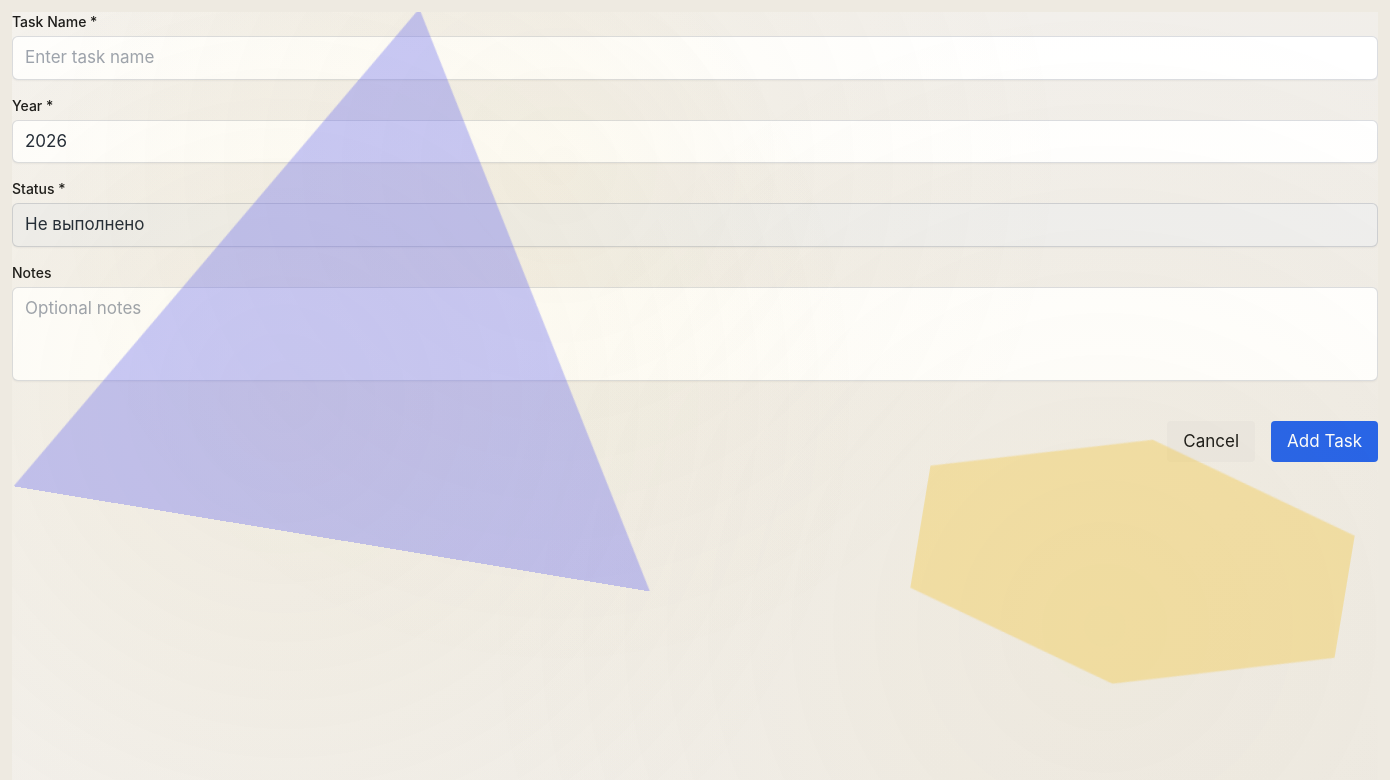
Test case: YearlyTaskModal › should validate year field
The width and height of the screenshot is (1390, 780).
Replace the text in the number field labelled "Year *" with "1800" at (695, 141), box x1=12 y1=120 x2=1378 y2=163
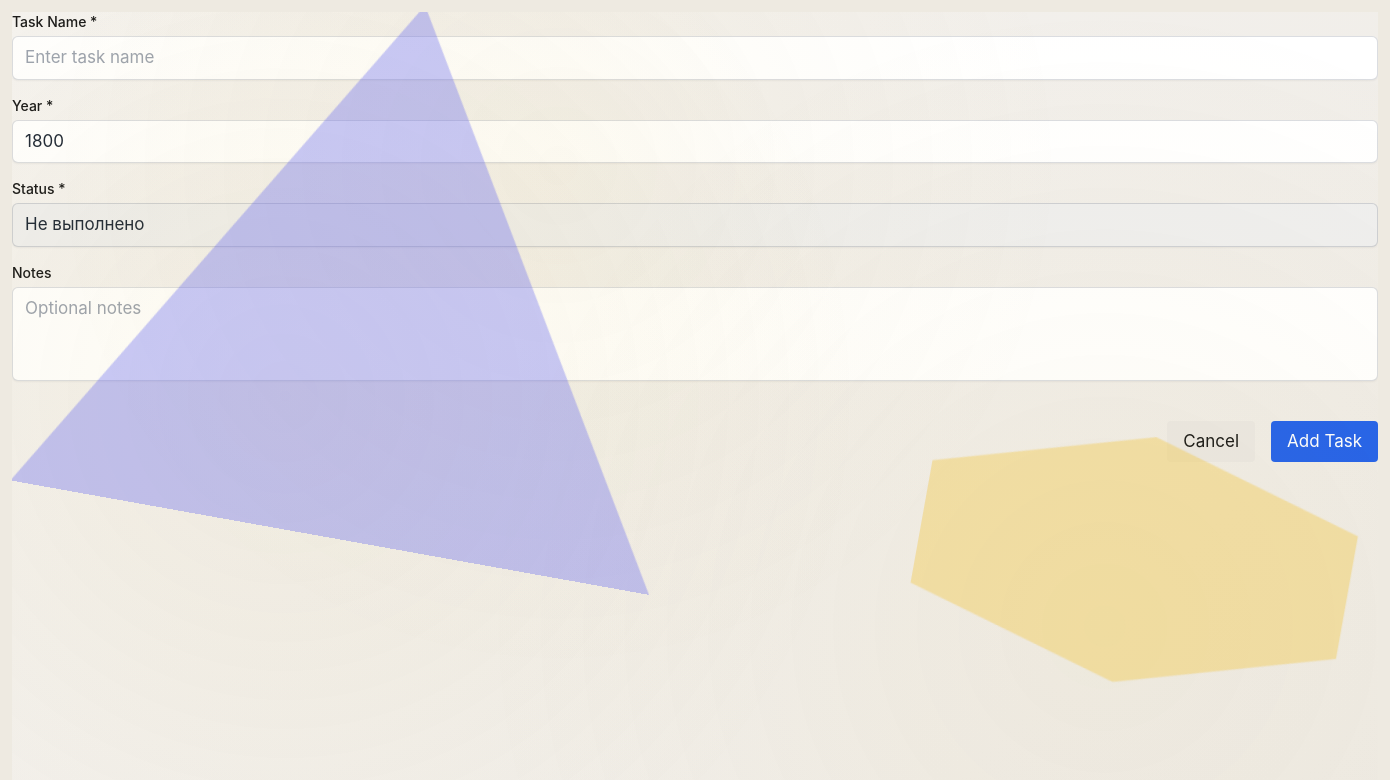
Type "Test Task" into the field labelled "Task Name *" at (695, 58), box x1=12 y1=36 x2=1378 y2=80
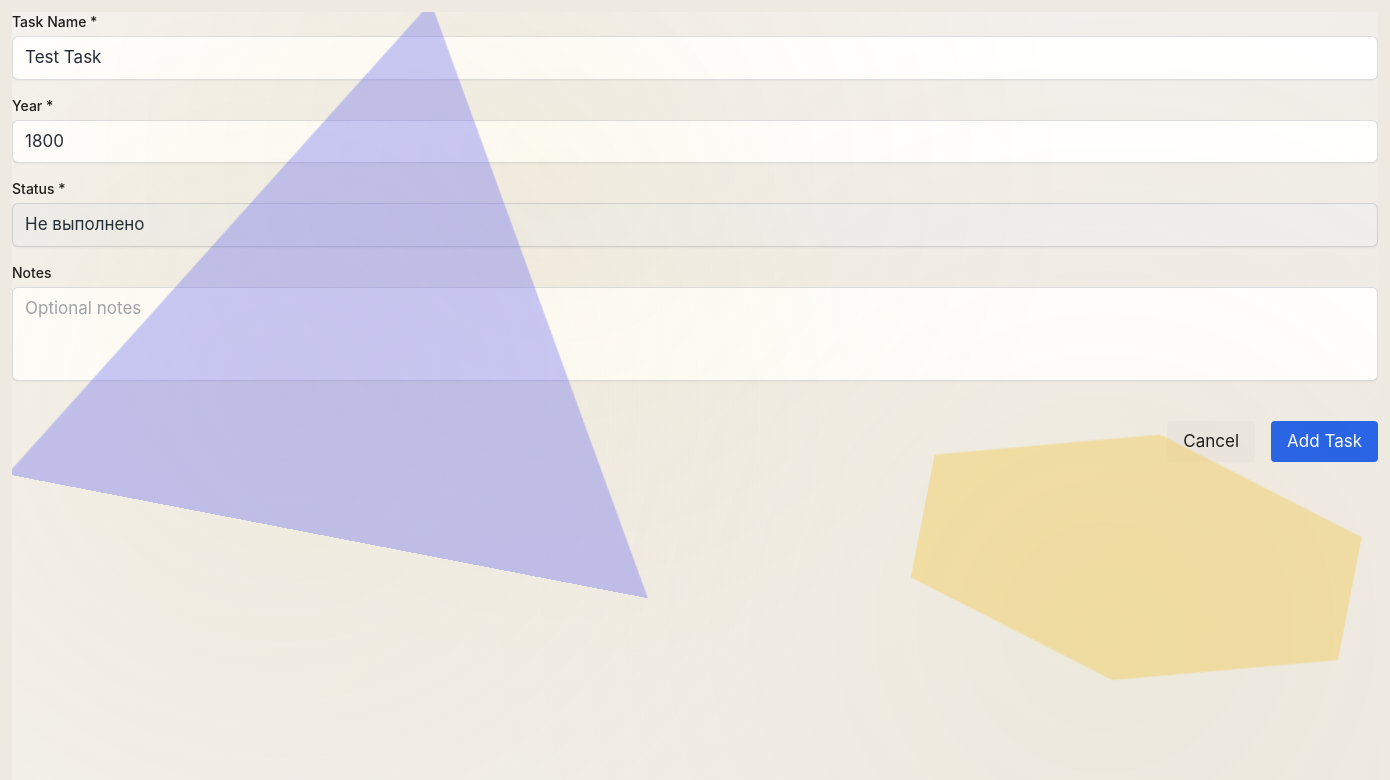
Click the button "Add Task" at (1325, 441), box x1=1271 y1=420 x2=1378 y2=462
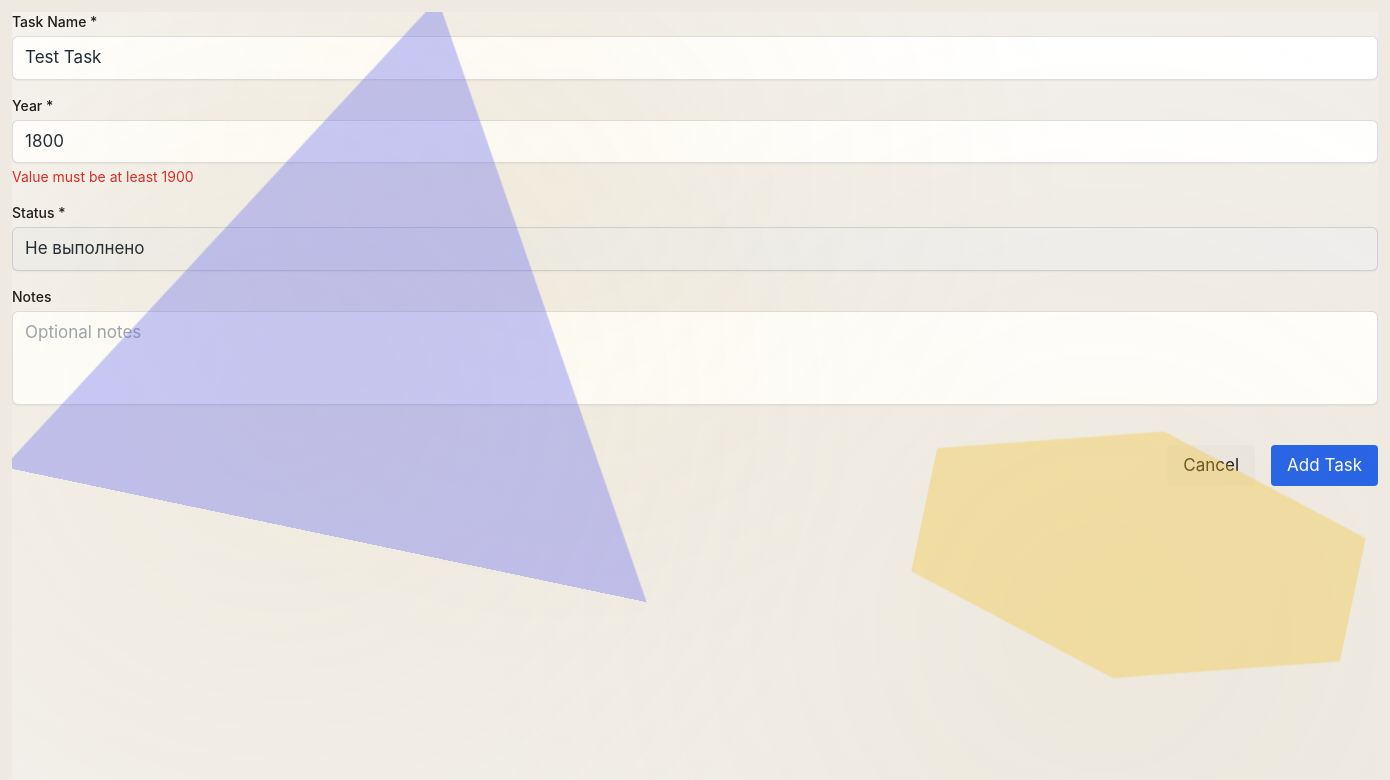
Result: the text "Value must be at least 1900" is shown at x1=12 y1=168 x2=194 y2=185
